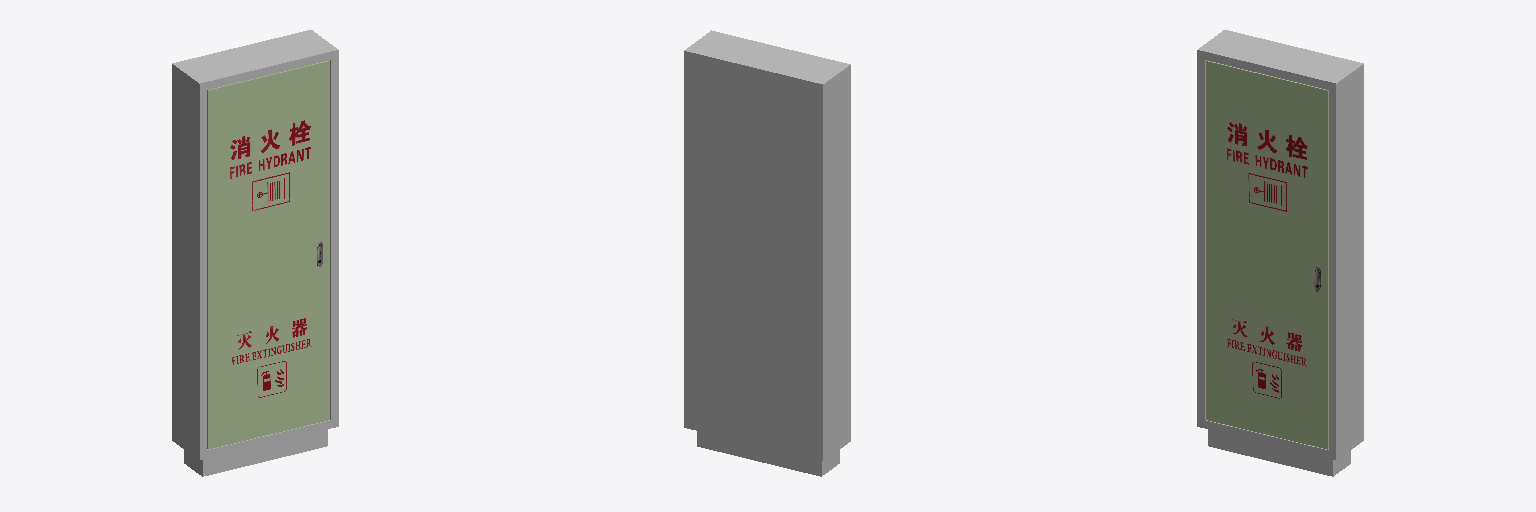
The picture shows the model from 3 angles: view 1: azimuth 30°, elevation 25°; view 2: azimuth 150°, elevation 25°; view 3: azimuth 330°, elevation 25°; orthographic projection.
Visible parts, largest first — view 1: Box001; view 2: Box001; view 3: Box001.
Boxes of the visible parts, box(x1,y1,x2,y2) form: Box001: box(172, 30, 338, 476); Box001: box(684, 30, 850, 476); Box001: box(1197, 30, 1363, 476).
Size of the model in its own units: 70 by 191 by 25.13.
6 materials, 5 textured.